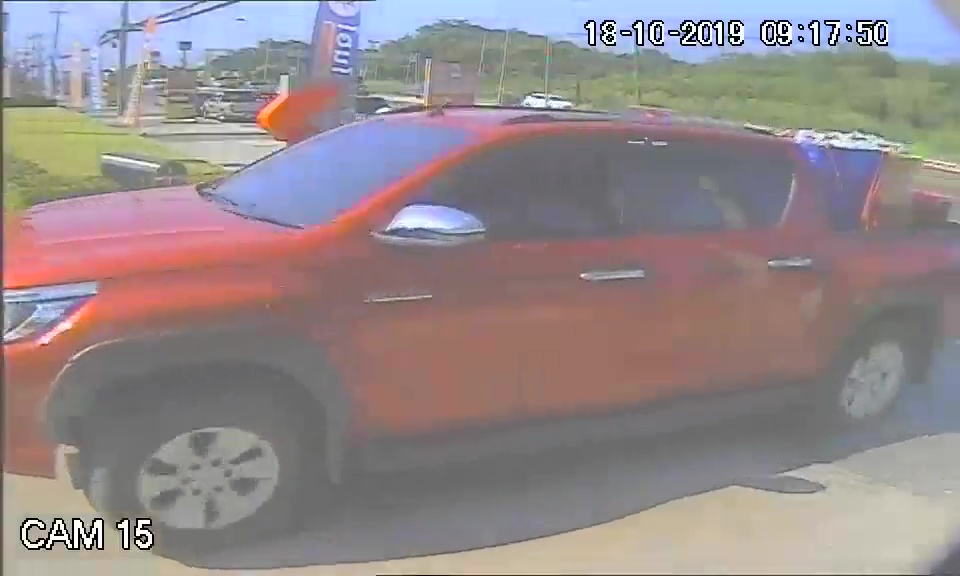pickup: (6, 106, 949, 507)
